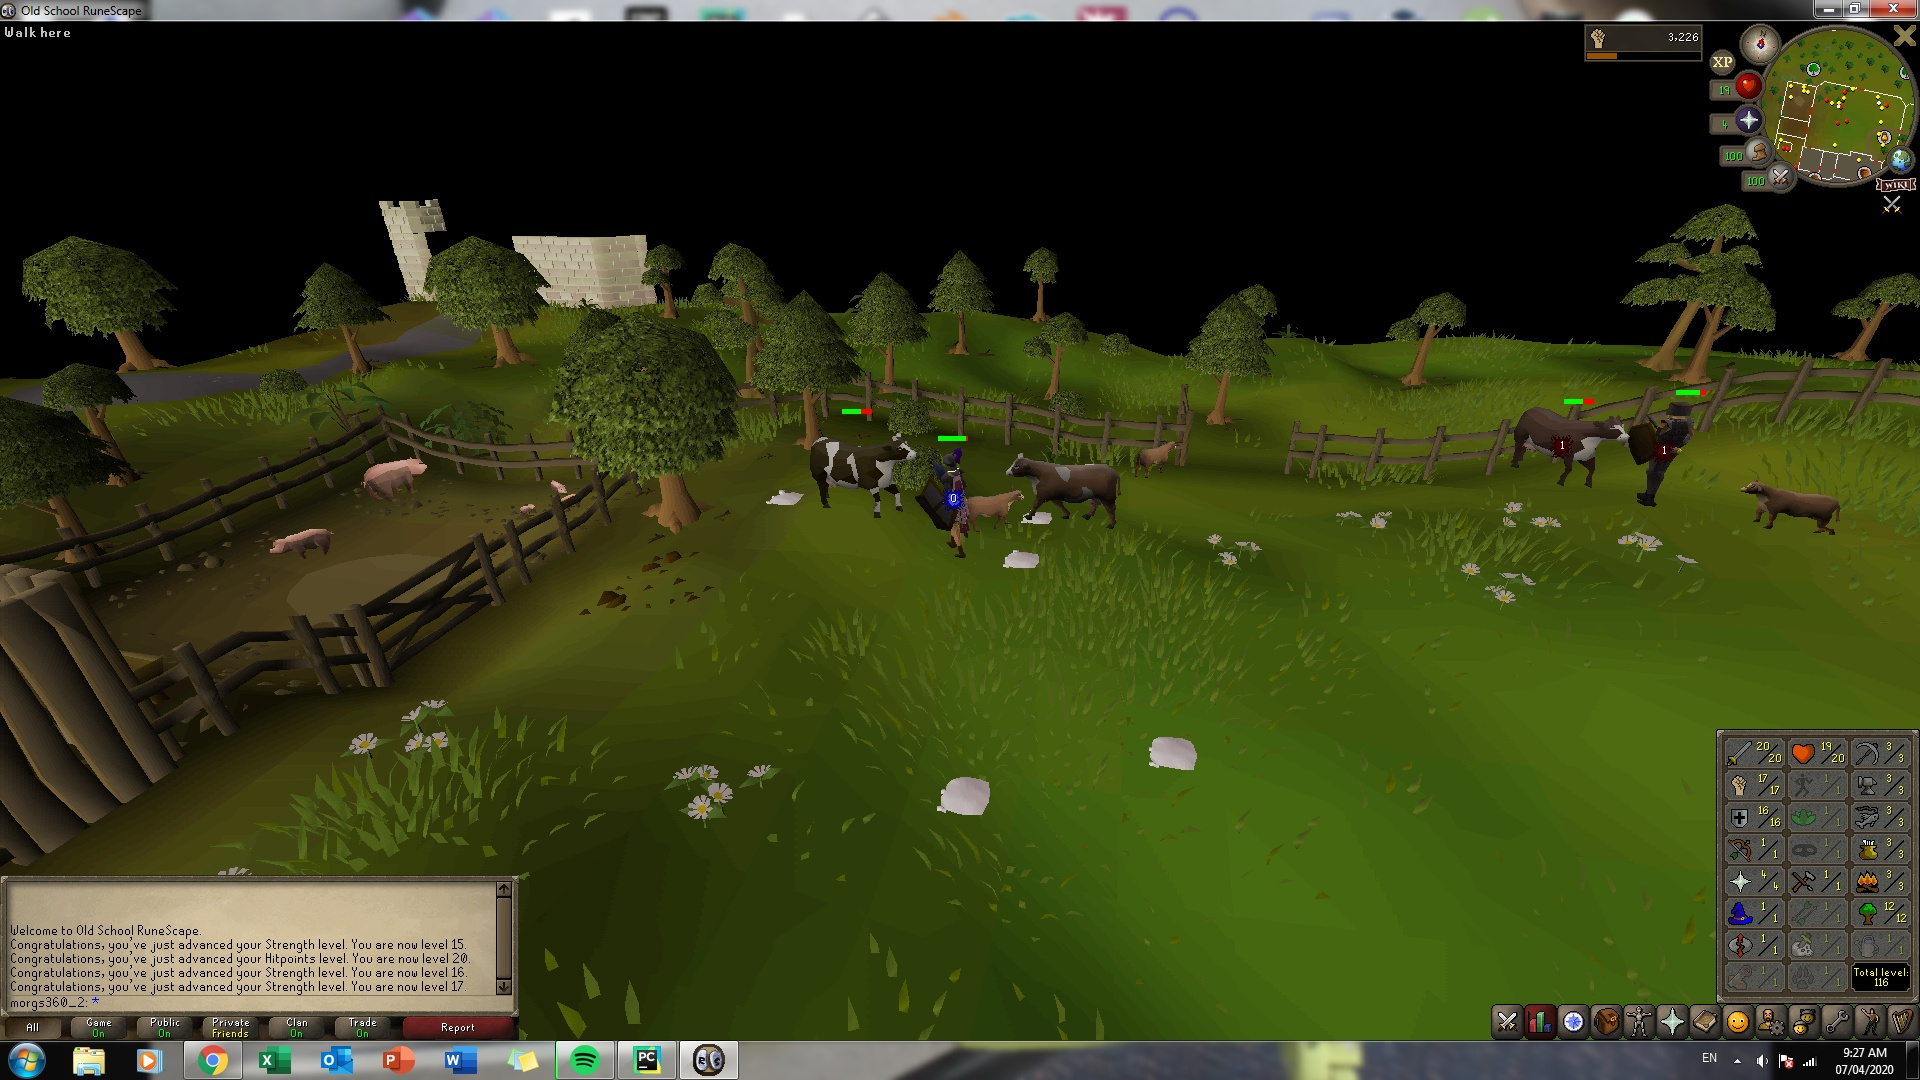cow: (1509, 395, 1630, 490), (809, 429, 919, 518), (1009, 451, 1124, 528), (1741, 480, 1843, 537), (964, 484, 1024, 530), (1137, 439, 1175, 475)
player: (936, 447, 971, 554)
